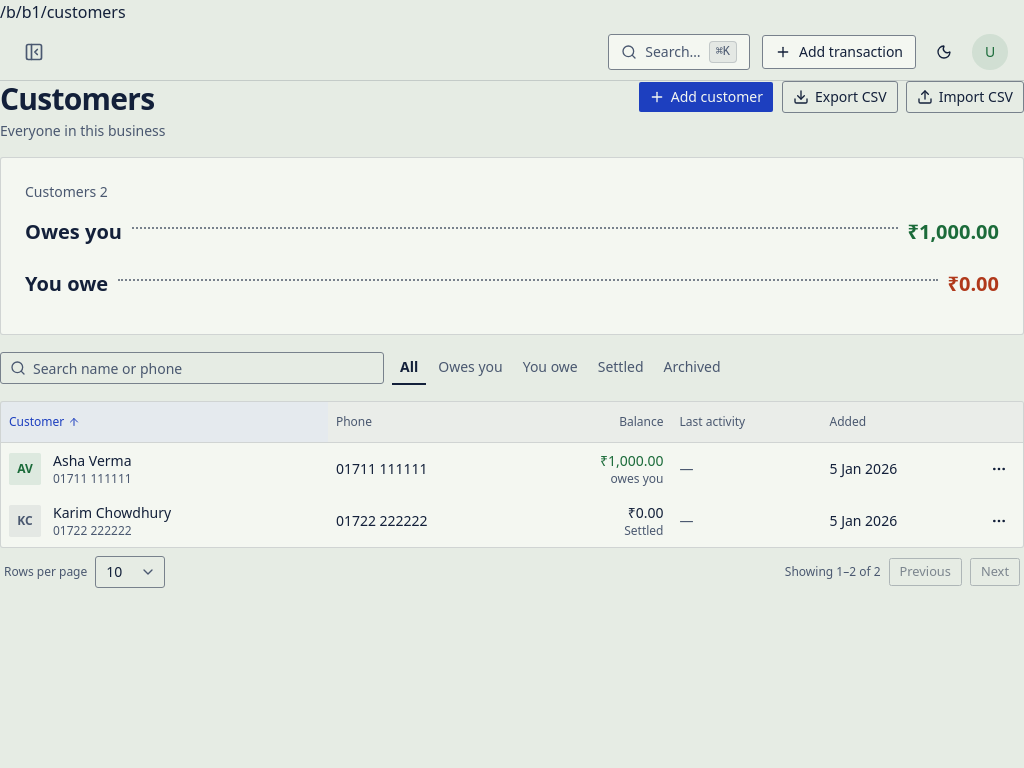
Test case: S-32 transaction sheet › records a payment that creates credit: preview and list badge both say You owe 300
Click the button named "Actions for Asha Verma" at (999, 468), box [983, 452, 1015, 484]
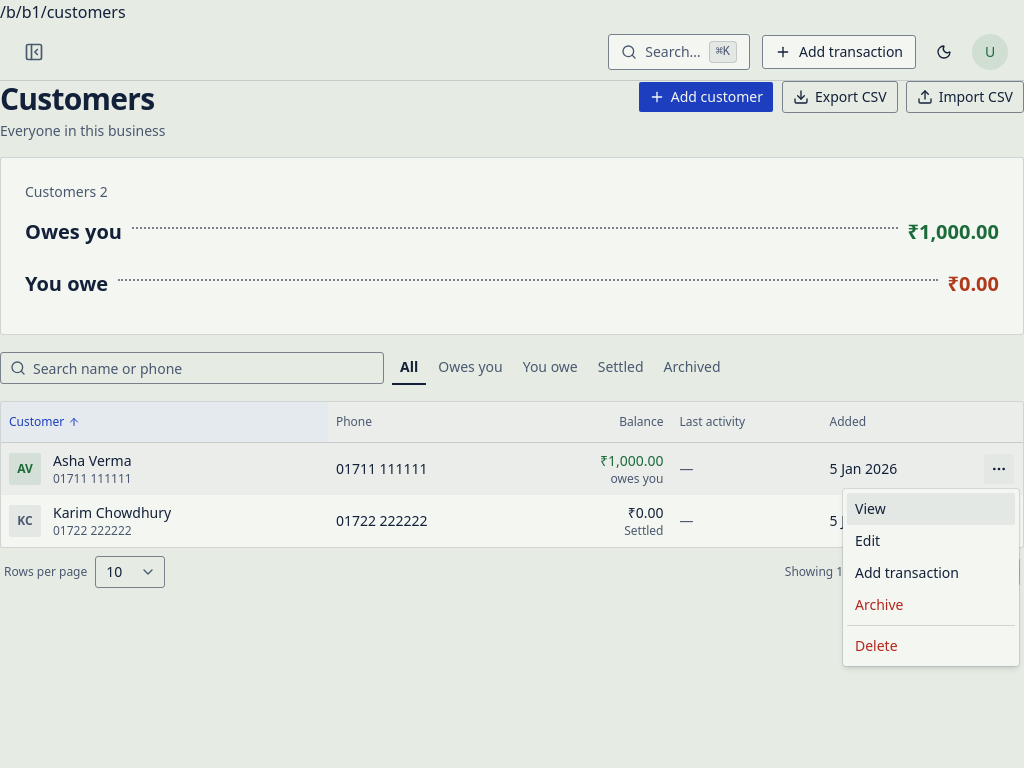
Click the menu item "Add transaction" at (931, 573), box [847, 557, 1015, 589]
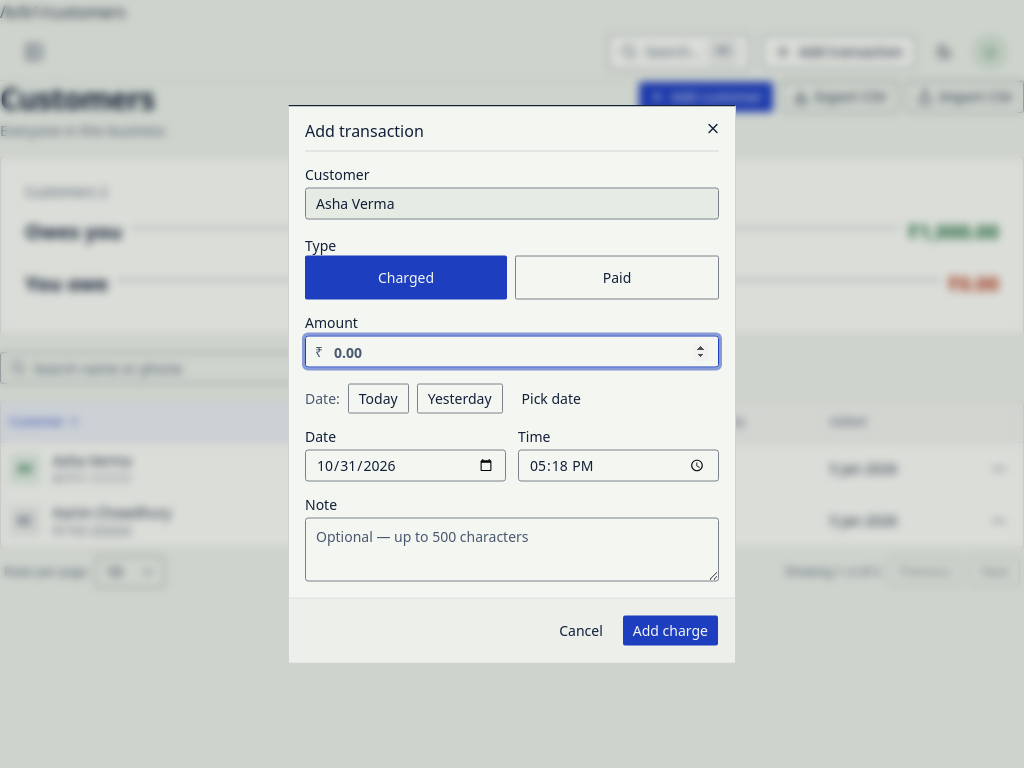
Expected: the button "Asha Verma" is shown, [305, 188, 719, 220]
Click the radio button labelled "Paid" at (617, 278), box [515, 256, 719, 300]
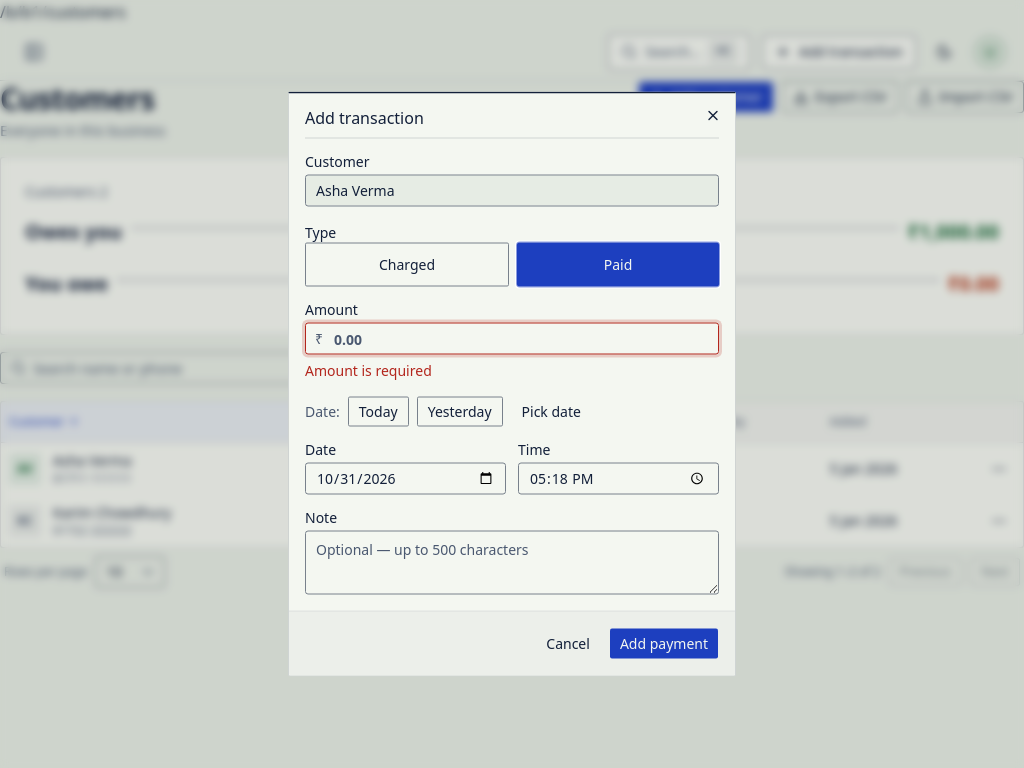
Type "1300" into the number field labelled "Amount" at (512, 338), box [305, 322, 719, 354]
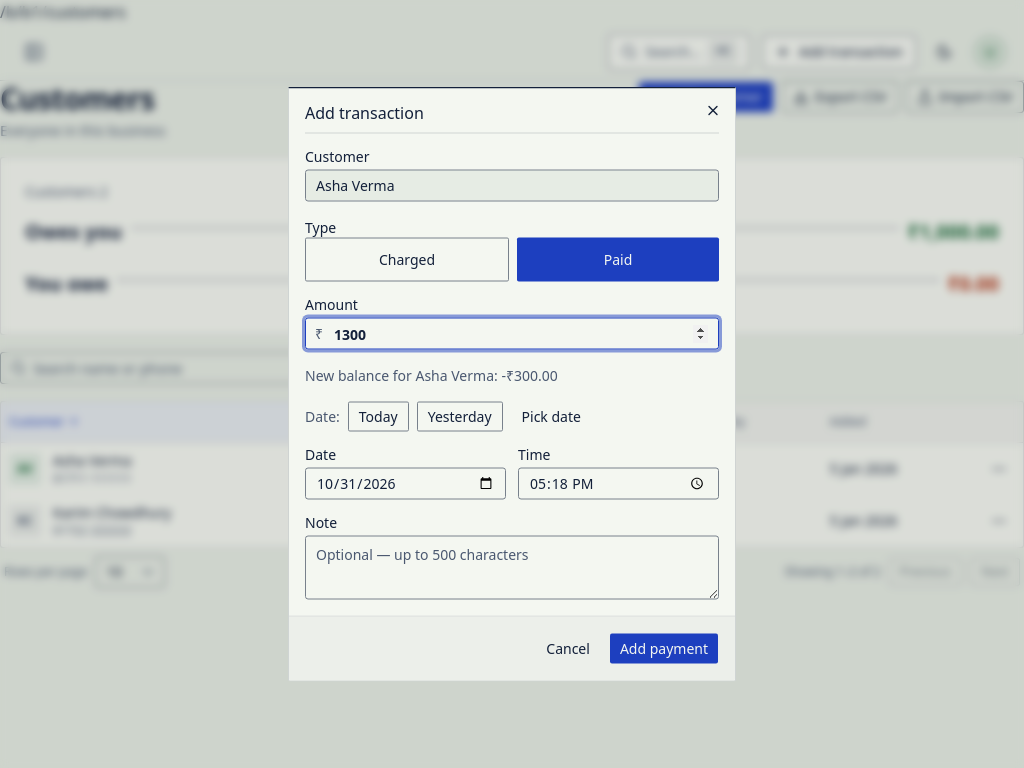
Expected: the text "New balance for Asha Verma: -₹300.00" is shown, [305, 366, 558, 384]
Click the button "Add payment" at (664, 648), box [609, 632, 719, 664]
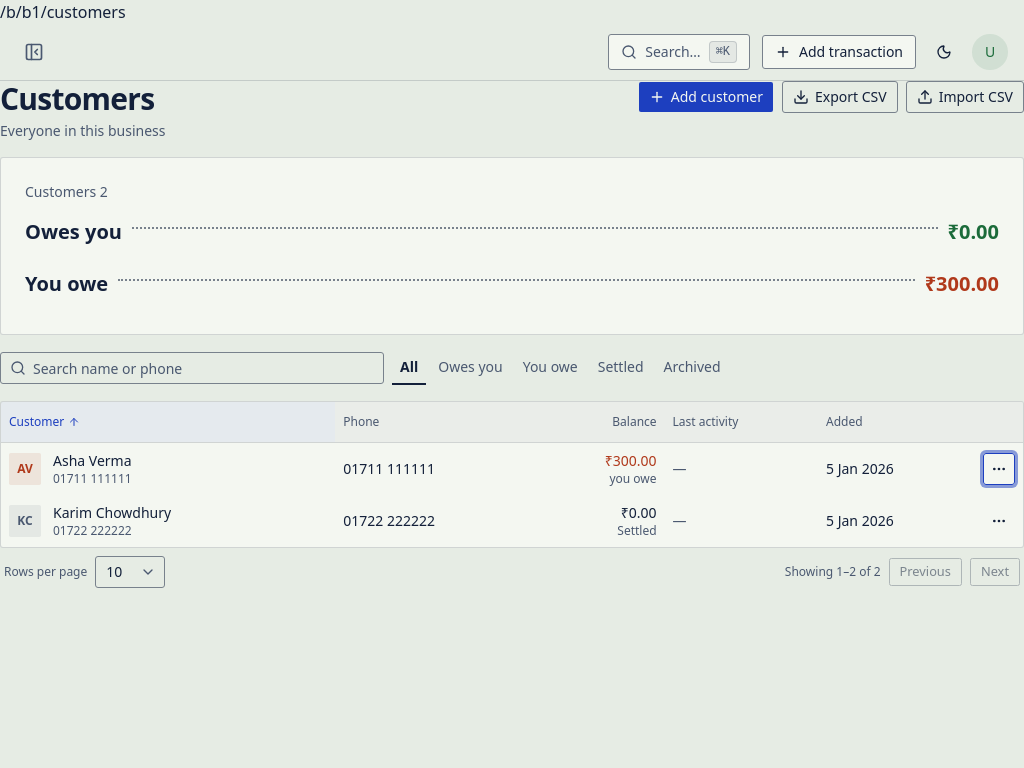
Expected: the dialog is gone
Expected: the text "you owe" is shown, [609, 470, 656, 486]
Expected: the text "₹300.00" in the row of "AV" is shown, [605, 450, 657, 470]
